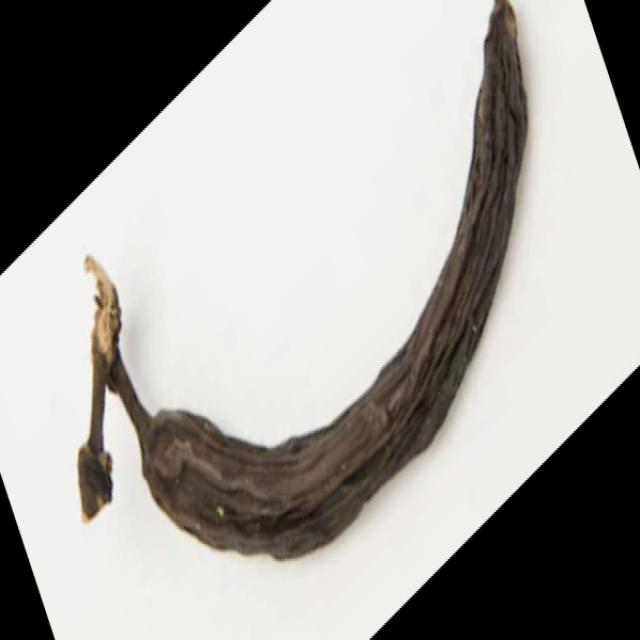Rotten: (49, 0, 550, 565)
